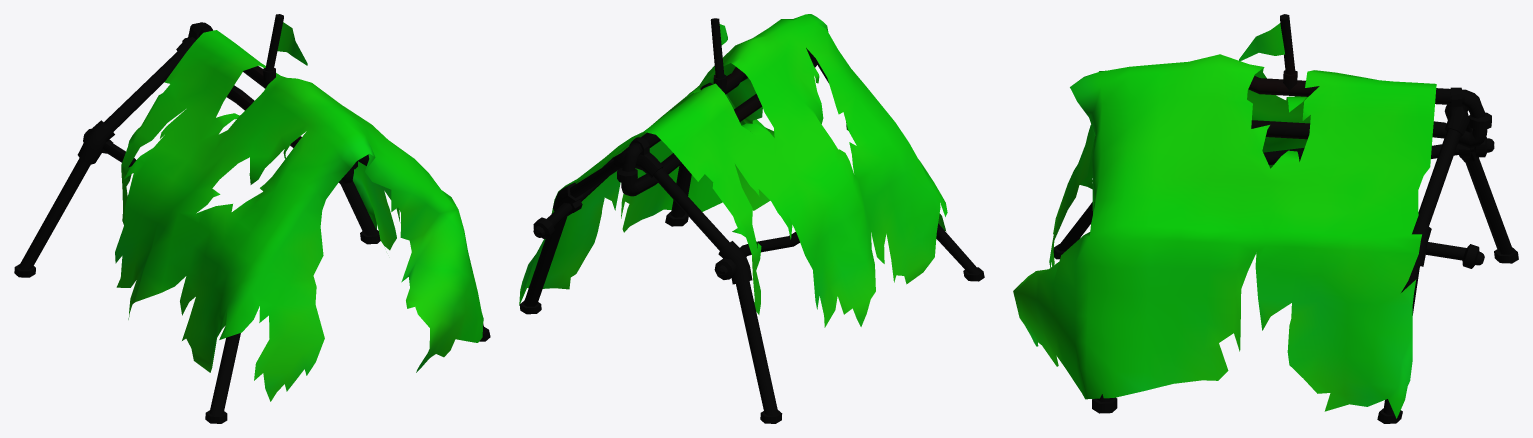
The model's file is env_camping_raintent01_lod0.fbx.
The picture shows the model from 3 angles, left to right: view 1: azimuth 30°, elevation 25°; view 2: azimuth 150°, elevation 25°; view 3: azimuth 270°, elevation 25°; orthographic projection. The views are drawn at different scales.
Parts seen in each view (by area): view 1: env_camping_raintent01_lod0; view 2: env_camping_raintent01_lod0; view 3: env_camping_raintent01_lod0.
Part boxes in pixels (box(x1,y1,x2,y2)): env_camping_raintent01_lod0: box(14, 14, 490, 423); env_camping_raintent01_lod0: box(519, 14, 984, 423); env_camping_raintent01_lod0: box(1013, 14, 1518, 423).
Bounding box in the file's own units: 38.49 × 33.93 × 47.44.
